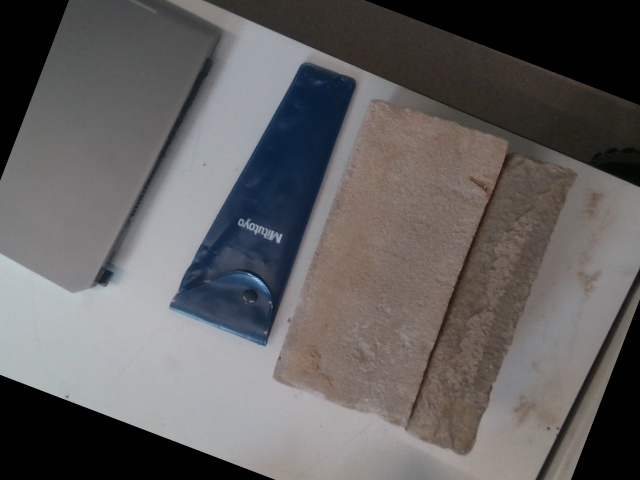brick: (271, 95, 510, 423)
